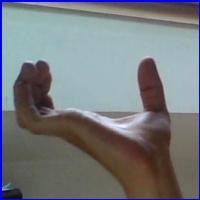B: (6, 48, 180, 181)
